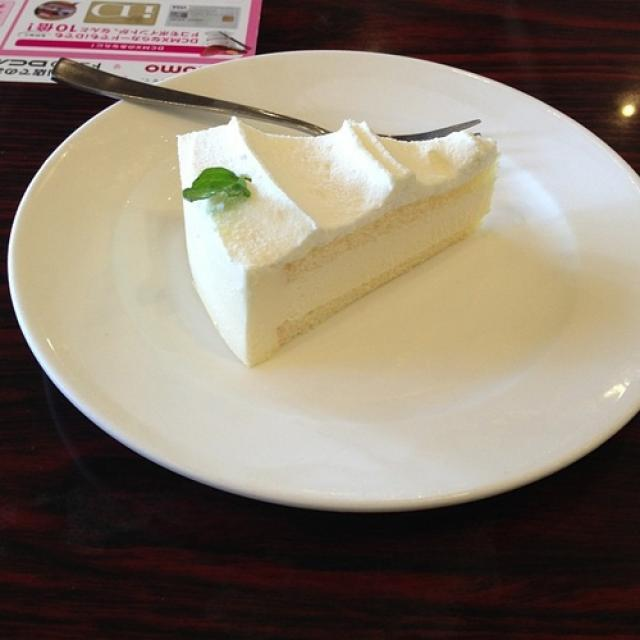Rare cheese cake: (111, 101, 539, 405)
